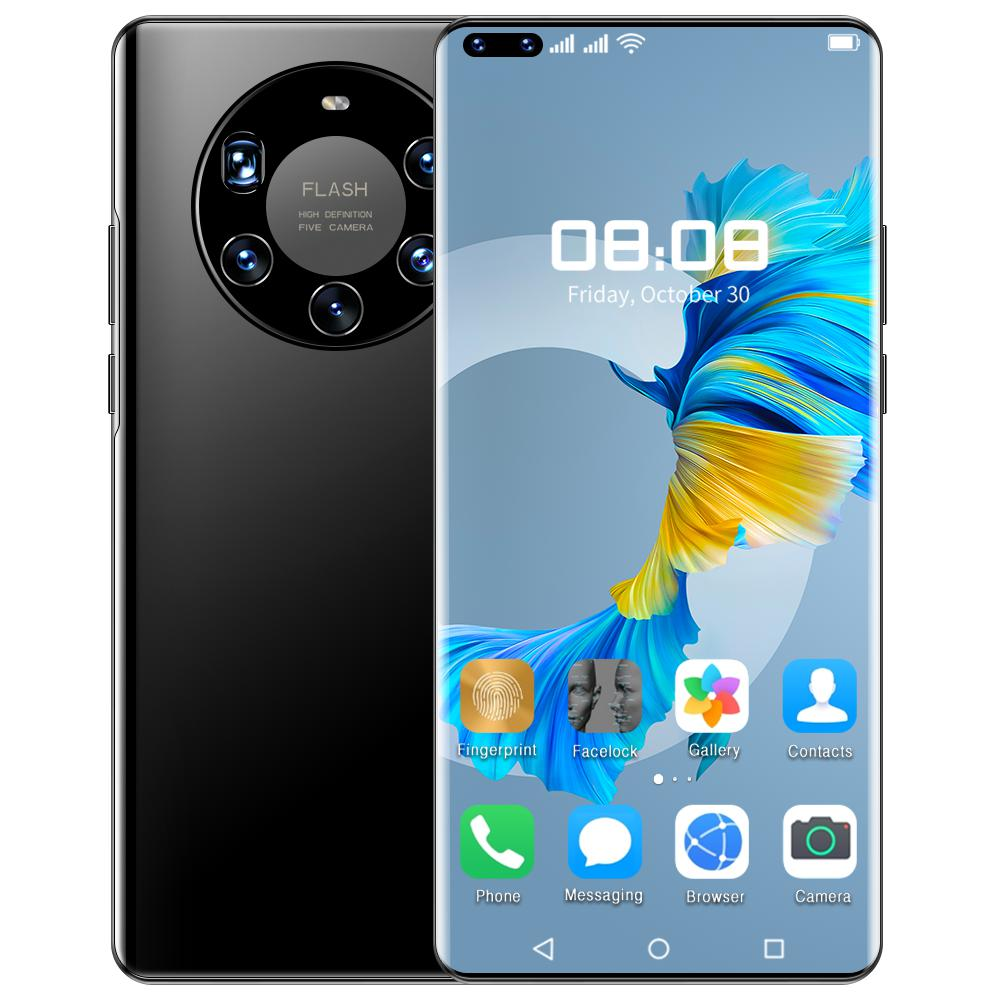Smartphone: (435, 35, 872, 970), (129, 7, 444, 975)
